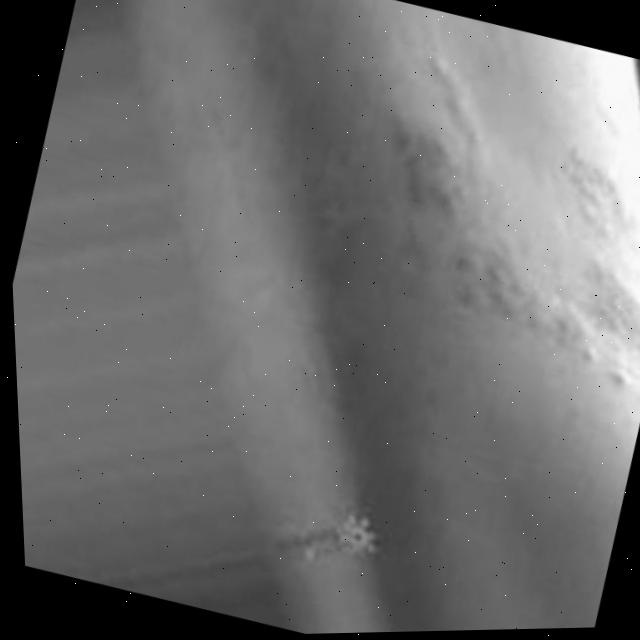Shingles: (331, 42, 640, 395)
